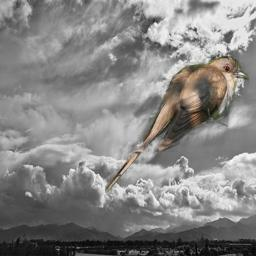Cuckoo: (105, 55, 249, 193)
